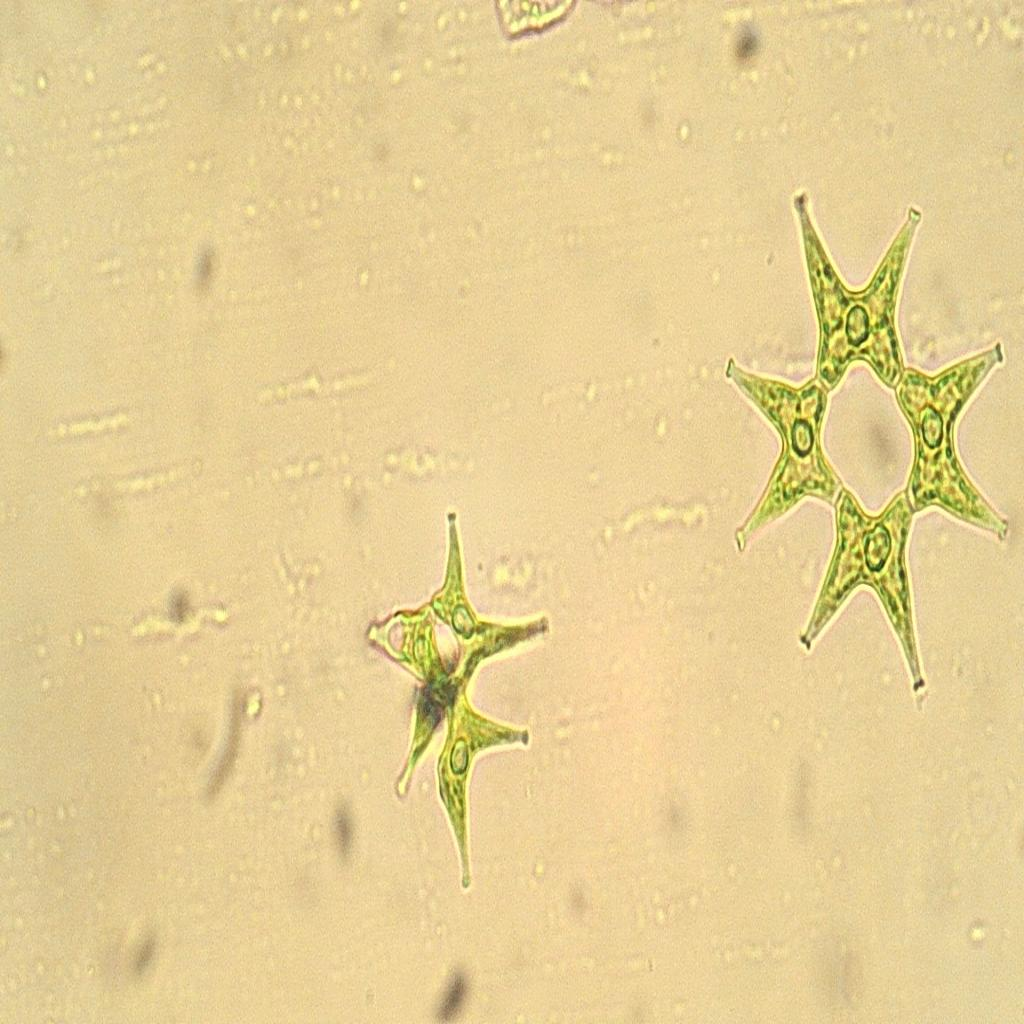Pediastrum_CO: (710, 184, 1015, 699)
